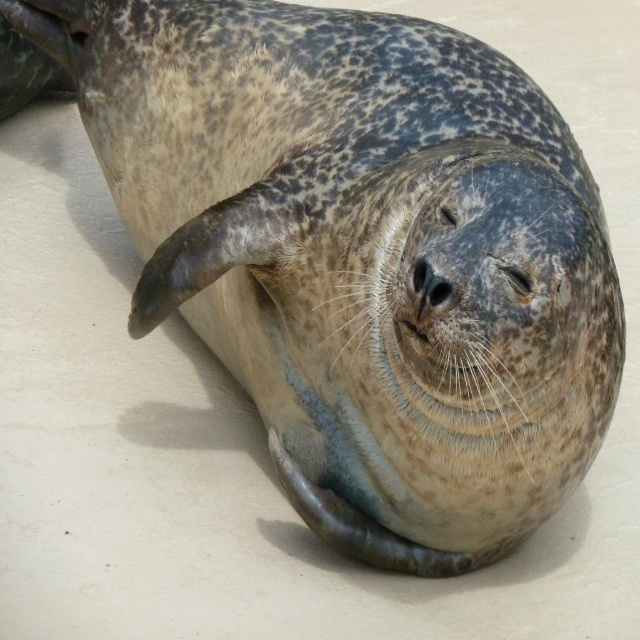Sea lion: (0, 0, 628, 582)
